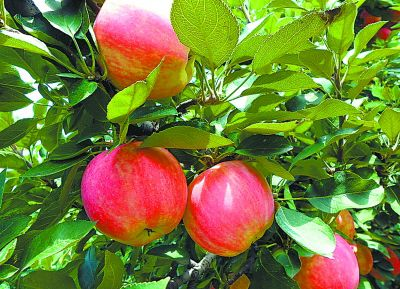apple: (81, 141, 187, 242), (184, 159, 273, 257)
obscured(1)_apple: (91, 1, 198, 96)
obscured(2)_apple: (293, 227, 360, 289)
